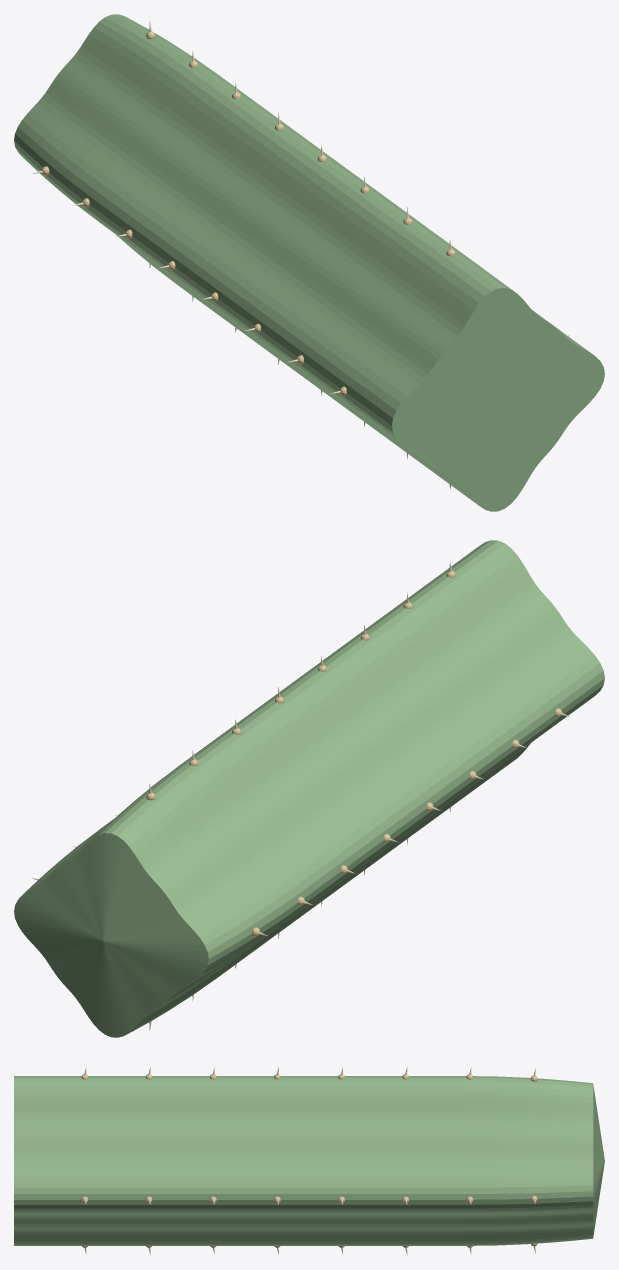
Rendered from pachanoi-geometry-nodes-frame0.glb.
3 views of the same model, one above another, from view 1: azimuth 30°, elevation 25°; view 2: azimuth 150°, elevation 25°; view 3: azimuth 270°, elevation 25° (orthographic). The views are drawn at different scales.
Visible parts, largest first — view 1: WACHUMA_Pachanoi_GN_Baked; view 2: WACHUMA_Pachanoi_GN_Baked; view 3: WACHUMA_Pachanoi_GN_Baked.
Boxes of the visible parts, box(x1,y1,x2,y2) form: WACHUMA_Pachanoi_GN_Baked: box(14, 14, 604, 511); WACHUMA_Pachanoi_GN_Baked: box(14, 540, 604, 1037); WACHUMA_Pachanoi_GN_Baked: box(14, 1067, 604, 1254).
Bounding box in the file's own units: 0.9196 × 0.9196 × 2.6.
